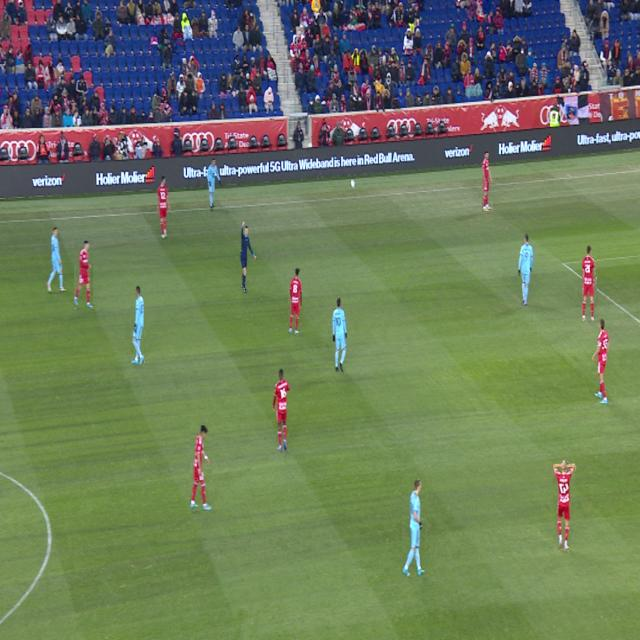player: (402, 479, 425, 577), (190, 426, 212, 511), (554, 463, 575, 550), (591, 319, 609, 404), (272, 369, 290, 451), (46, 227, 66, 292), (74, 241, 93, 308), (582, 245, 597, 321), (332, 298, 347, 372), (518, 234, 533, 306), (132, 286, 144, 365), (157, 176, 171, 239), (289, 268, 302, 334), (206, 158, 221, 211), (482, 151, 493, 212)
referee: (240, 221, 257, 293)
